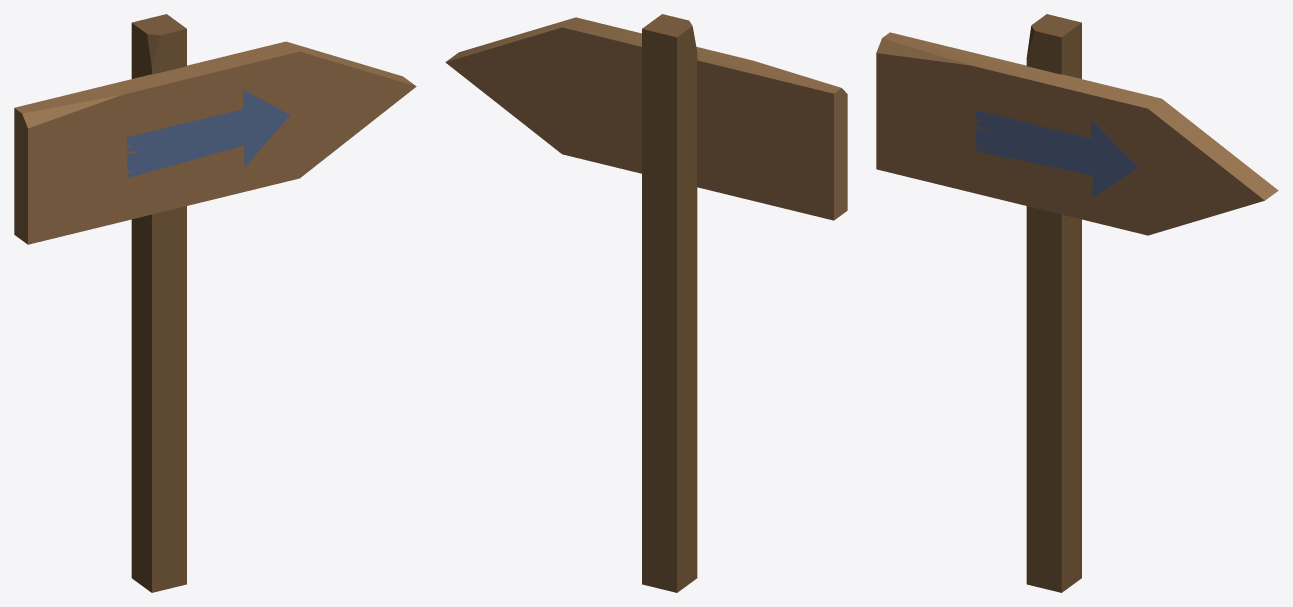
File: Pointer_01.glb
The picture shows the model from 3 angles, left to right: view 1: azimuth 30°, elevation 25°; view 2: azimuth 150°, elevation 25°; view 3: azimuth 330°, elevation 25°; orthographic projection.
Visible parts, largest first — view 1: Pointer_01; view 2: Pointer_01; view 3: Pointer_01.
Part boxes in pixels (x1,y1,x2,y2): Pointer_01: [14, 14, 416, 592]; Pointer_01: [445, 14, 847, 592]; Pointer_01: [876, 14, 1278, 592].
Bounding box in the file's own units: 0.7601 × 1.04 × 0.1136.
1 material, 1 textured.
